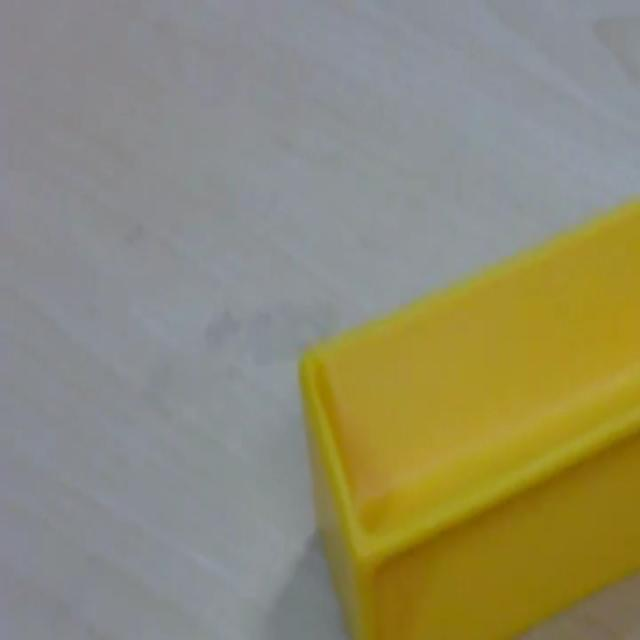yellow_block: (297, 195, 639, 636)
